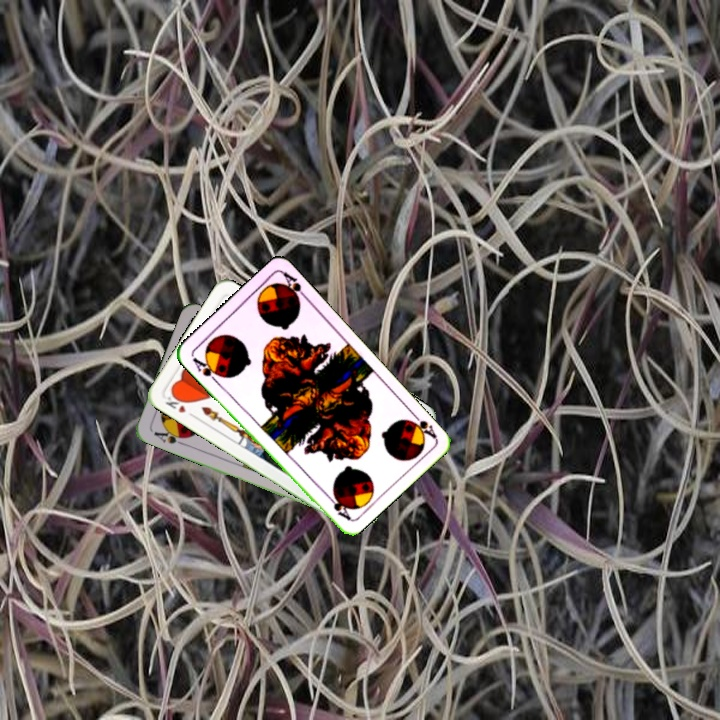HK: (161, 389, 198, 420)
SA: (402, 407, 439, 442), (188, 353, 224, 385), (150, 424, 189, 448)
